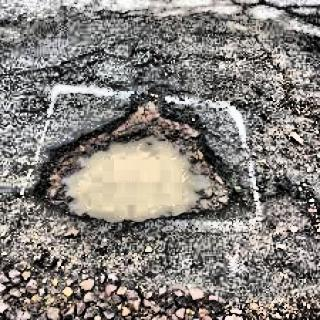pothole: (23, 66, 270, 245)
